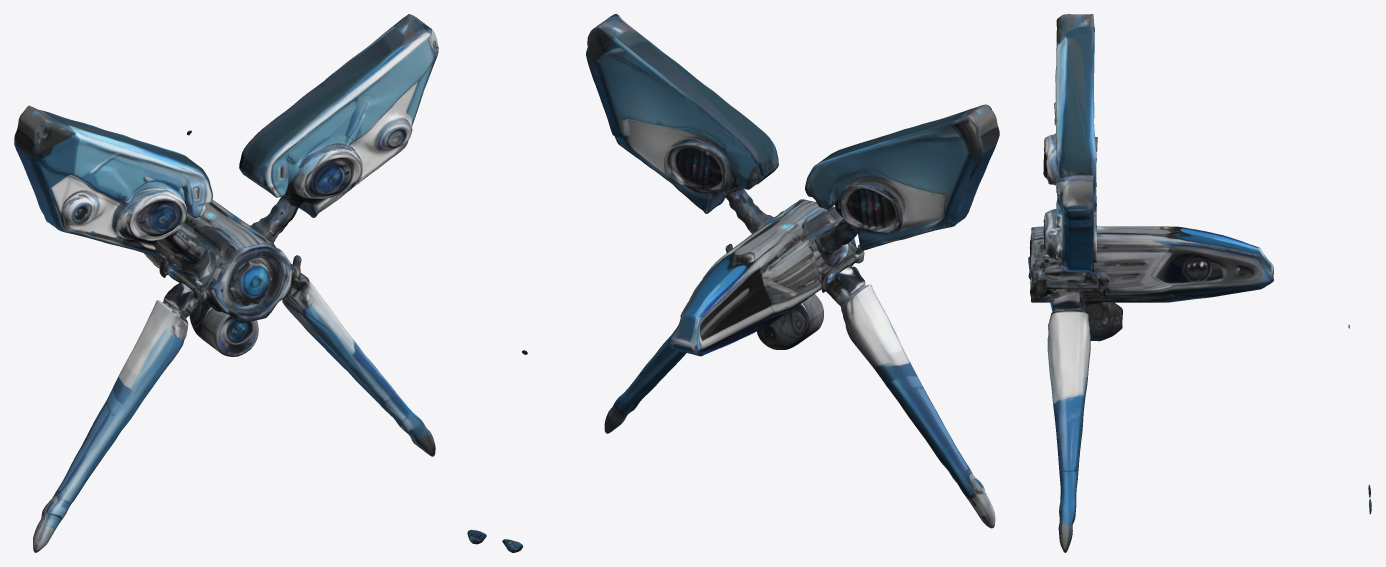
Rendered from Drone.glb.
The picture shows the model from 3 angles, left to right: view 1: azimuth 30°, elevation 25°; view 2: azimuth 150°, elevation 25°; view 3: azimuth 270°, elevation 25°; orthographic projection. The views are drawn at different scales.
Size of the model in its own units: 1.99 by 2.01 by 1.67.
1 material, 1 textured.
